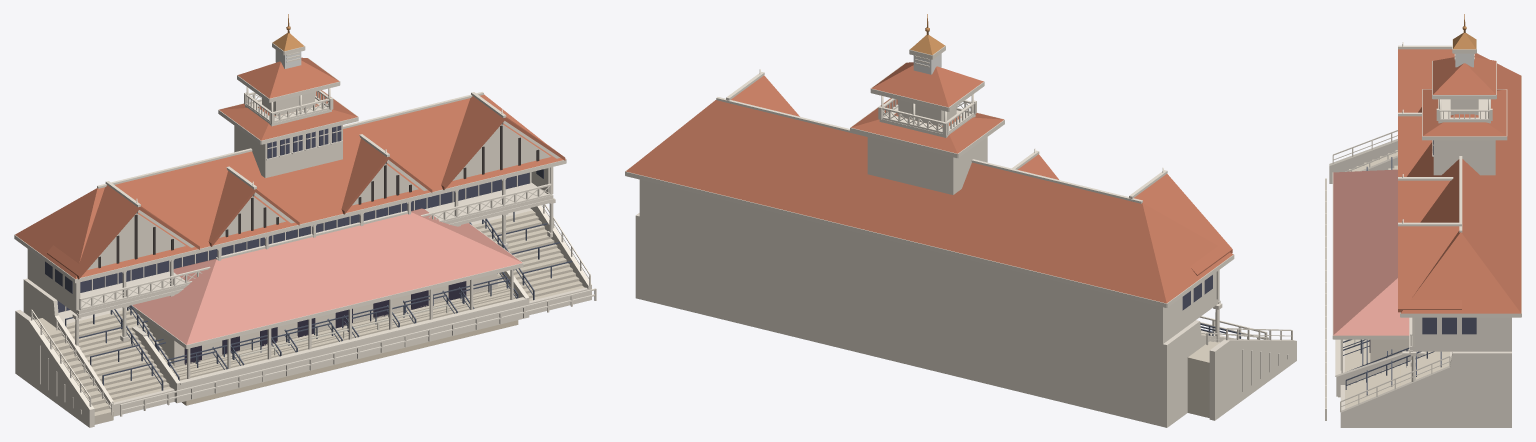
The model's file is gen-downs-l-small_stands.glb.
3 views of the same model, side by side, from view 1: azimuth 30°, elevation 25°; view 2: azimuth 150°, elevation 25°; view 3: azimuth 270°, elevation 25° (orthographic). The views are drawn at different scales.
Visible parts, largest first — view 1: gen_pavilion_stand_red, ring_pavilion, gen_terrace_32, park_terrace; view 2: gen_pavilion_stand_red; view 3: gen_pavilion_stand_red, ring_pavilion, gen_terrace_32.
Boxes of the visible parts, box(x1,y1,x2,y2) form: gen_pavilion_stand_red: box(14, 14, 596, 427); ring_pavilion: box(128, 208, 523, 405); gen_terrace_32: box(132, 270, 529, 403); park_terrace: box(239, 304, 448, 363); gen_pavilion_stand_red: box(625, 14, 1296, 427); gen_pavilion_stand_red: box(1325, 14, 1521, 427); ring_pavilion: box(1332, 169, 1409, 397); gen_terrace_32: box(1335, 339, 1424, 396).
Bounding box in the file's own units: 47.6 × 27 × 15.9.
